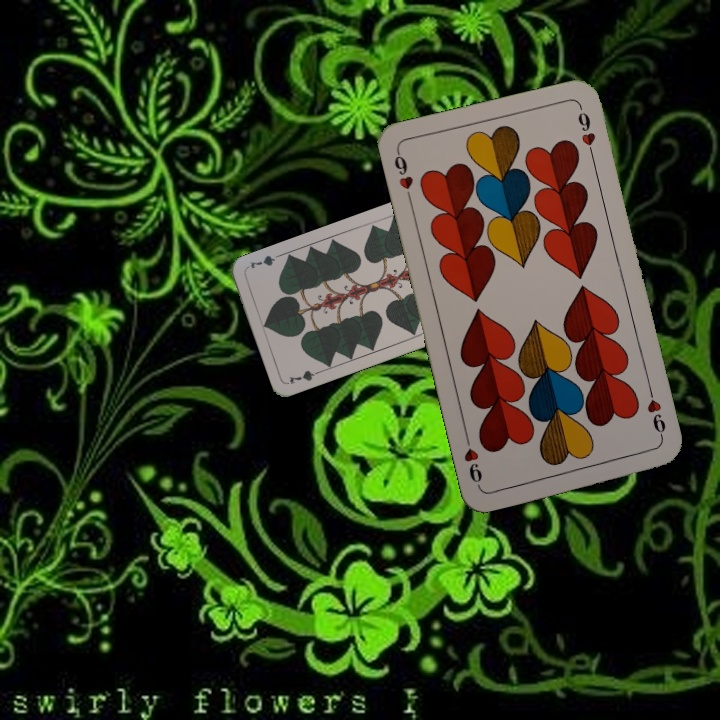G7: (285, 366, 325, 386)
H9: (390, 147, 416, 205), (642, 385, 668, 443)
